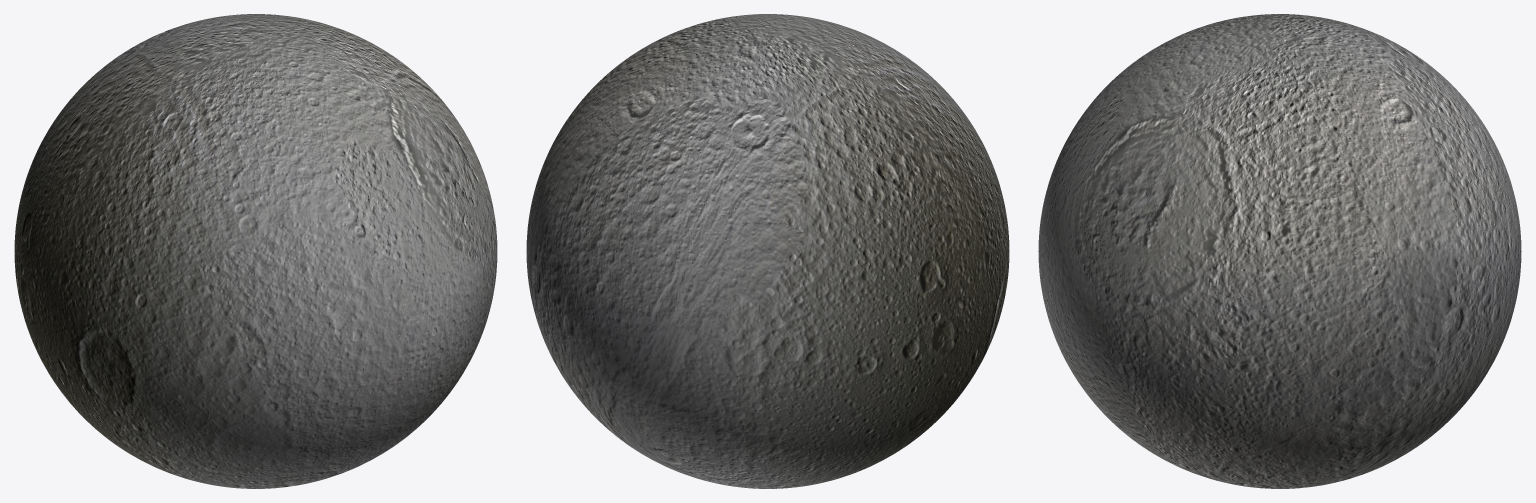
Rendered from tethys.glb.
The picture shows the model from 3 angles, left to right: view 1: azimuth 30°, elevation 25°; view 2: azimuth 150°, elevation 25°; view 3: azimuth 270°, elevation 25°; orthographic projection.
Parts seen in each view (by area): view 1: cylindrically_mapped_sphere; view 2: cylindrically_mapped_sphere; view 3: cylindrically_mapped_sphere.
Part boxes in pixels (box(x1,y1,x2,y2)): cylindrically_mapped_sphere: box(14, 14, 497, 488); cylindrically_mapped_sphere: box(526, 14, 1009, 488); cylindrically_mapped_sphere: box(1038, 14, 1521, 488).
Size of the model in its own units: 2 by 1.96 by 2.
1 material, 1 textured.
